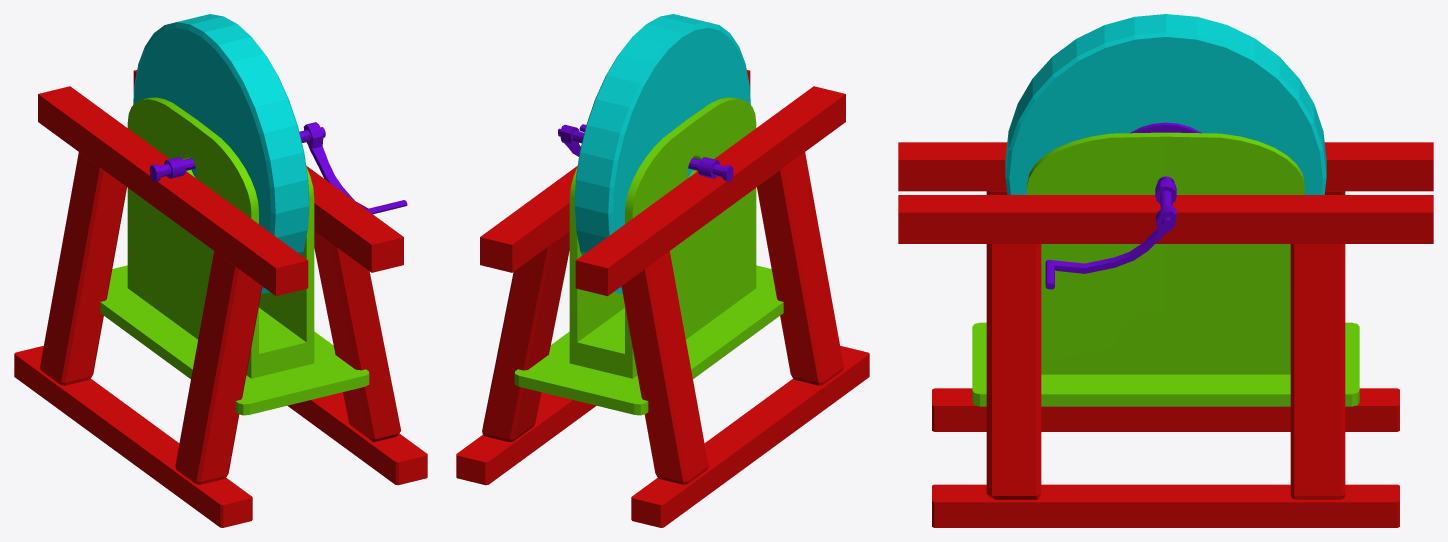
The model's file is SM_grindingStone.fbx.
3 renders of one model, left to right at view 1: azimuth 30°, elevation 25°; view 2: azimuth 150°, elevation 25°; view 3: azimuth 270°, elevation 25°, orthographic. The views are drawn at different scales.
Visible parts, largest first — view 1: Cube.018; view 2: Cube.018; view 3: Cube.018.
Part boxes in pixels (x1=…): Cube.018: x1=14, y1=14, x2=427, y2=527; Cube.018: x1=456, y1=14, x2=869, y2=527; Cube.018: x1=898, y1=14, x2=1433, y2=527.
Bounding box in the file's own units: 86.43 × 139 × 151.
